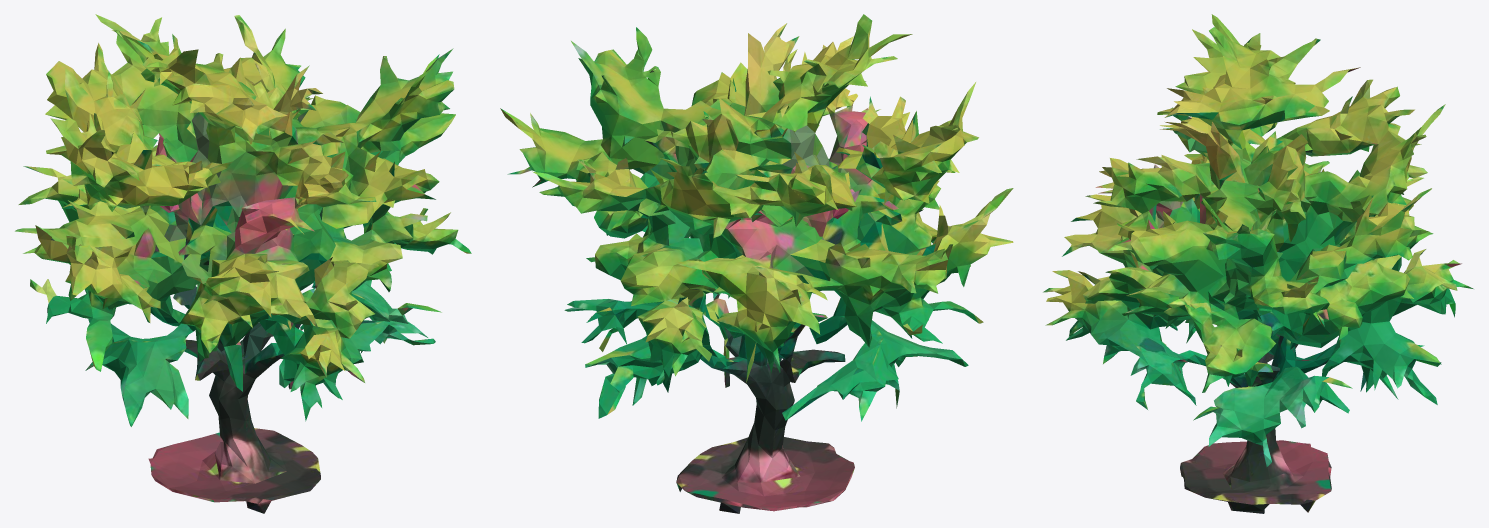
Rendered from bush.glb.
3 views of the same model, side by side, from view 1: azimuth 30°, elevation 25°; view 2: azimuth 150°, elevation 25°; view 3: azimuth 270°, elevation 25° (orthographic). The views are drawn at different scales.
Visible parts, largest first — view 1: tmptz3w1qt9.ply; view 2: tmptz3w1qt9.ply; view 3: tmptz3w1qt9.ply.
Part boxes in pixels (x1,y1,x2,y2): tmptz3w1qt9.ply: (15, 14, 471, 513); tmptz3w1qt9.ply: (500, 14, 1013, 513); tmptz3w1qt9.ply: (1043, 14, 1473, 513).
Bounding box in the file's own units: 1.94 × 1.97 × 1.81.
Materials: 1 (1 with a texture image).
